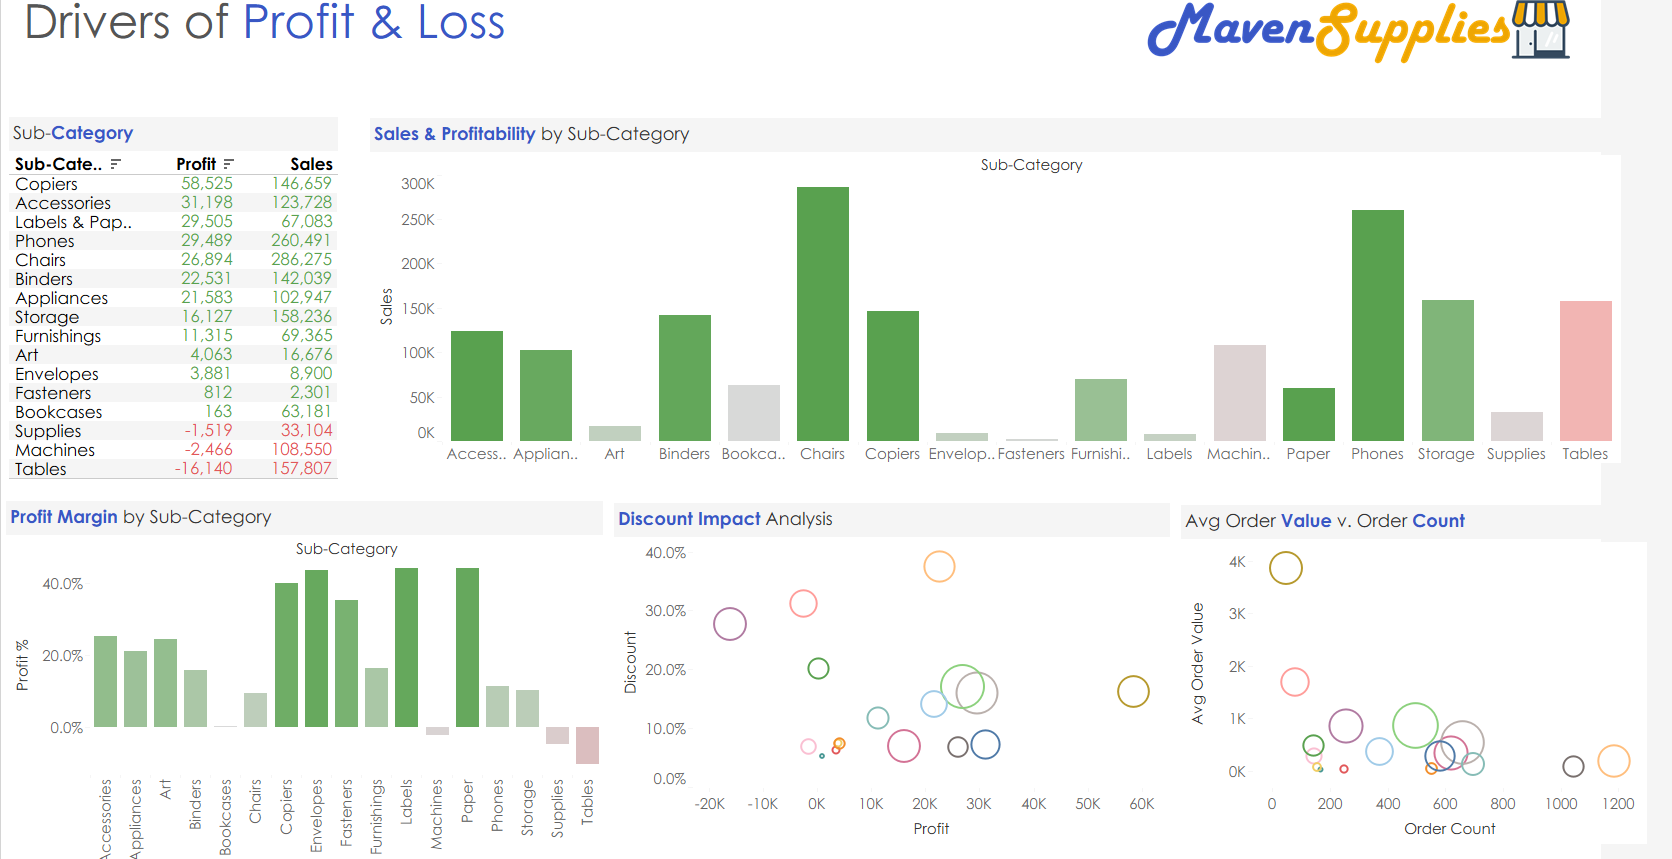

What the dashboard file says about the page in this screenshot:
{"tool":"tableau","page":{"name":"Dashboard - Drivers of Profit & Loss ","canvas":[1600,900],"ordinal":0},"visuals":[{"type":"blank","box":[0,11,1581,136]},{"type":"text","box":[19,32,489,56]},{"type":"worksheet","title":"Sub-Category","mark":"Automatic","box":[8,157,348,362]},{"type":"worksheet","title":"Discount Impact Analysis","mark":"Automatic","rows":["Discount"],"cols":["Profit"],"box":[613,543,556,341]}]}

Visuals, with their boxes on the page's 1600x900 design canvas (x1, y1, x2, y2). These are canvas units, not pixel positions in the 1672x859 screenshot, which may show the page scaled, cropped or inside an application window:
blank: bbox(0, 11, 1581, 147)
text: bbox(19, 32, 508, 88)
"Sub-Category" worksheet: bbox(8, 157, 356, 519)
"Discount Impact Analysis" worksheet: bbox(613, 543, 1169, 884)
